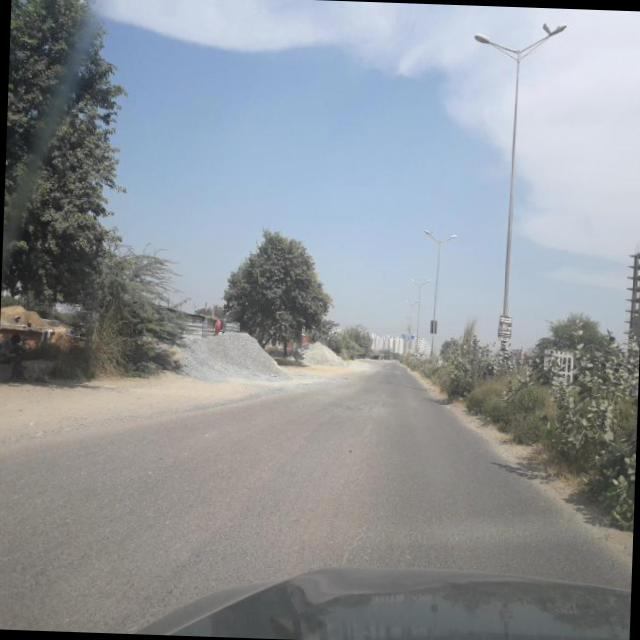crack: (0, 406, 514, 570)
